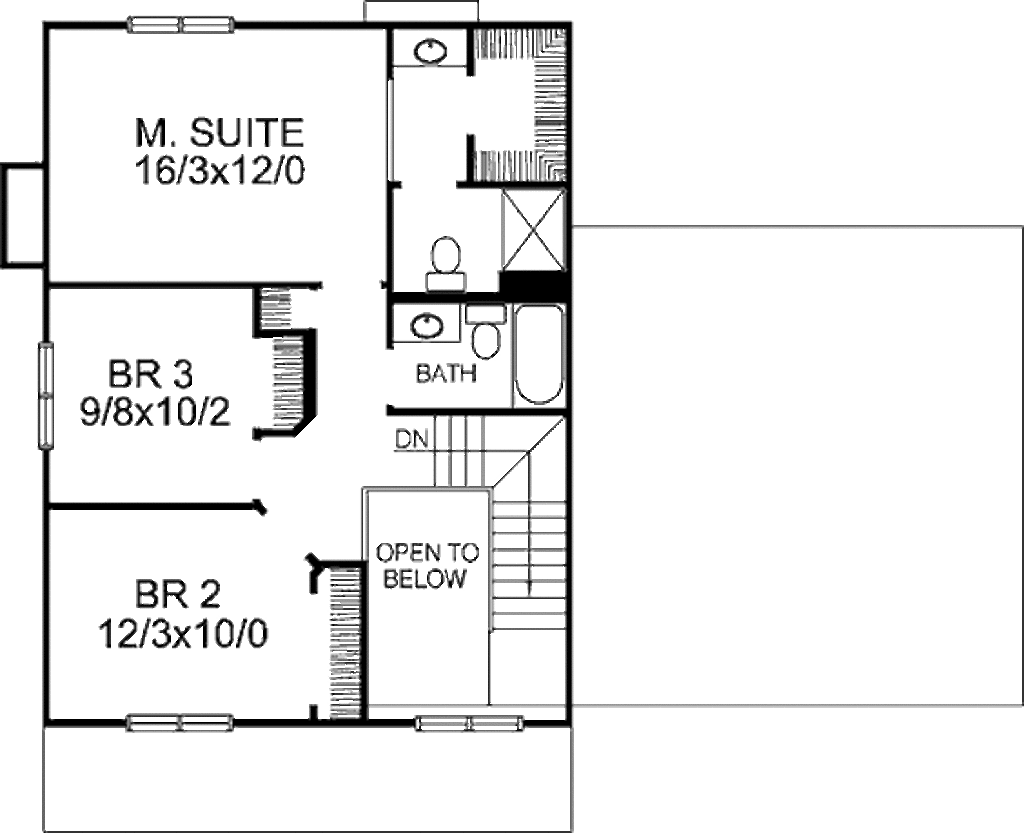large_sink: (419, 213, 469, 289), (462, 305, 505, 358)
small_sink: (393, 30, 473, 75), (396, 297, 461, 338)
stairs: (392, 406, 573, 637)
tub: (503, 299, 571, 415)
window: (30, 342, 68, 455), (414, 707, 525, 743), (119, 9, 242, 41), (123, 708, 239, 737)
